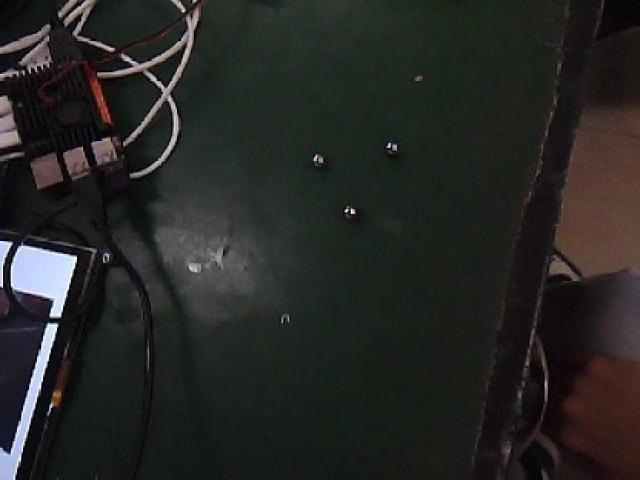steel-ball: (371, 125, 418, 174), (326, 184, 369, 236), (295, 124, 331, 178)
